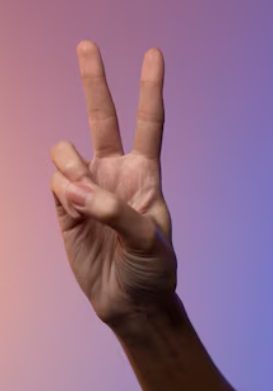peace: (50, 40, 179, 324)
